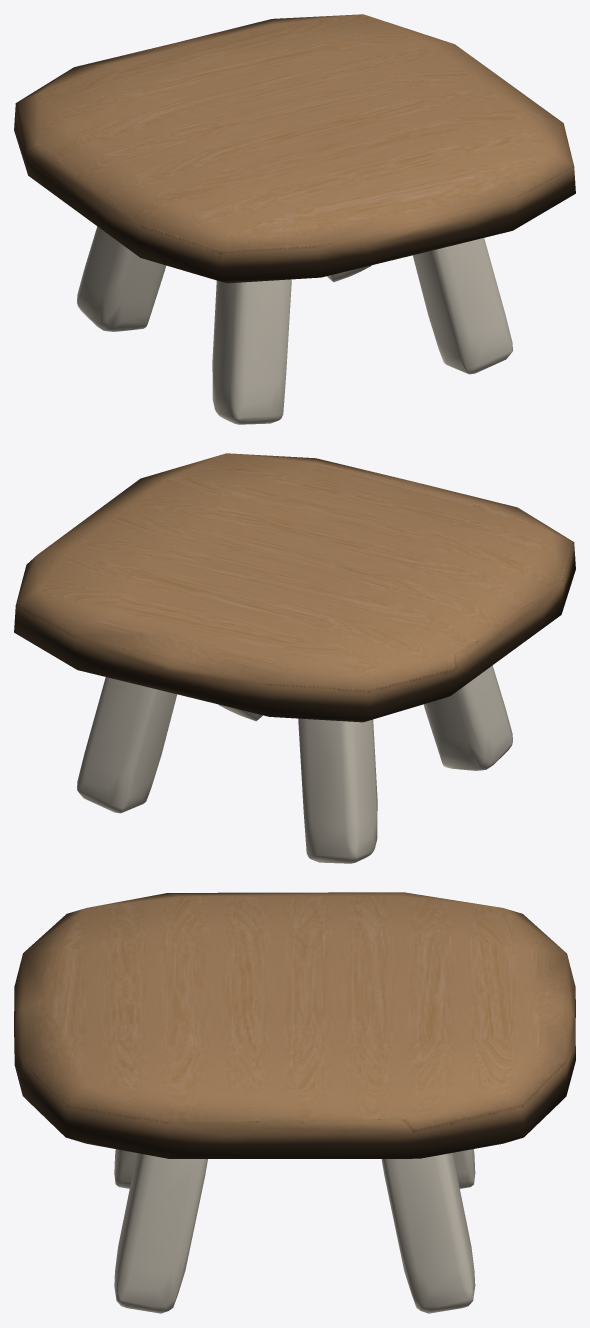
The model's file is table2.glb.
3 renders of one model, top to bottom at view 1: azimuth 30°, elevation 25°; view 2: azimuth 150°, elevation 25°; view 3: azimuth 270°, elevation 25°, orthographic. The views are drawn at different scales.
Parts seen in each view (by area): view 1: Table; view 2: Table; view 3: Table.
Part boxes in pixels (box(x1,y1,x2,y2)): Table: box(14, 14, 575, 424); Table: box(14, 453, 575, 863); Table: box(14, 892, 575, 1313).
Size of the model in its own units: 2.4 by 1.23 by 2.39.
Materials: 2 (1 with a texture image).
